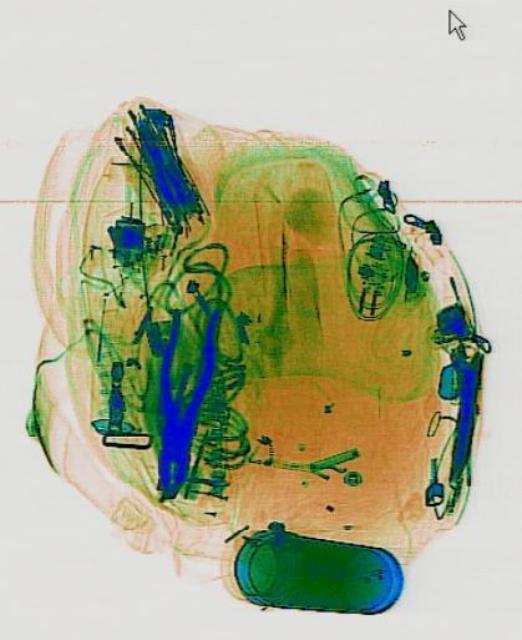Pliers: (139, 300, 220, 500)
